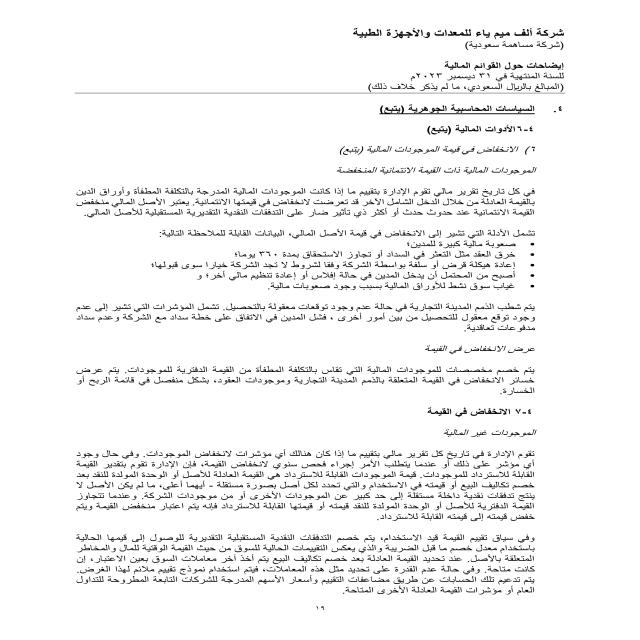notes: (433, 61, 570, 74)
text: (54, 102, 578, 611)
